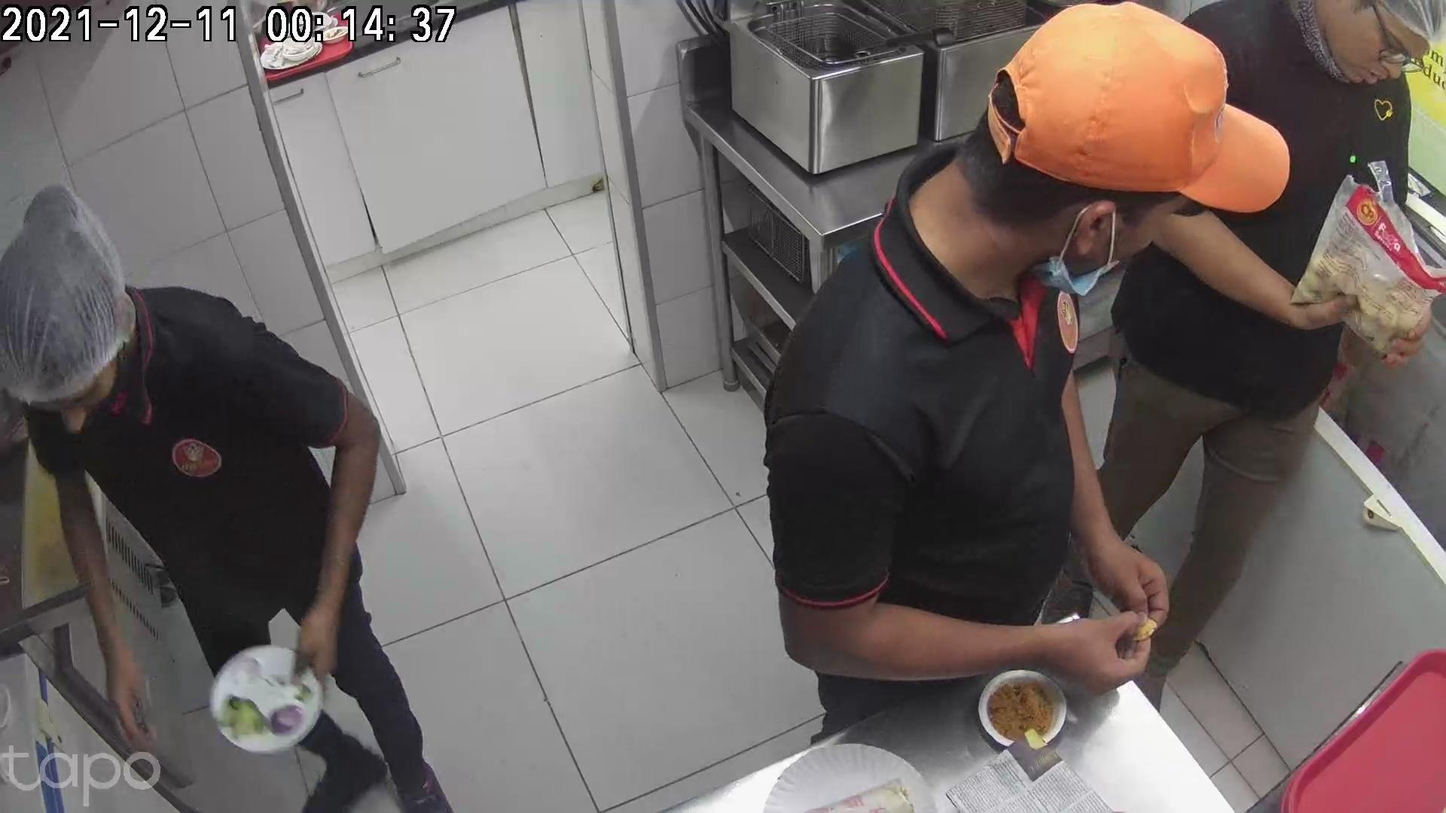gloves: (881, 622, 994, 749)
no_gloves: (1038, 587, 1116, 712)
